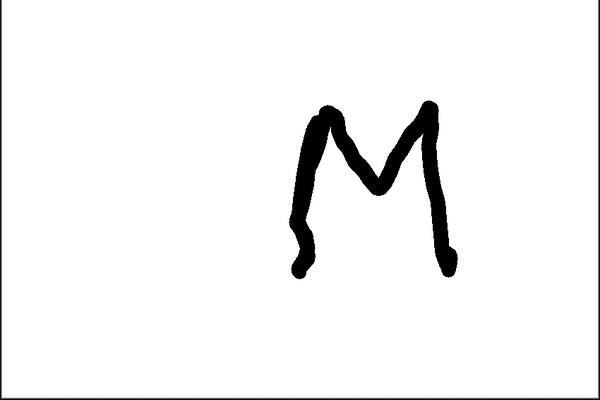M: (293, 99, 461, 279)
